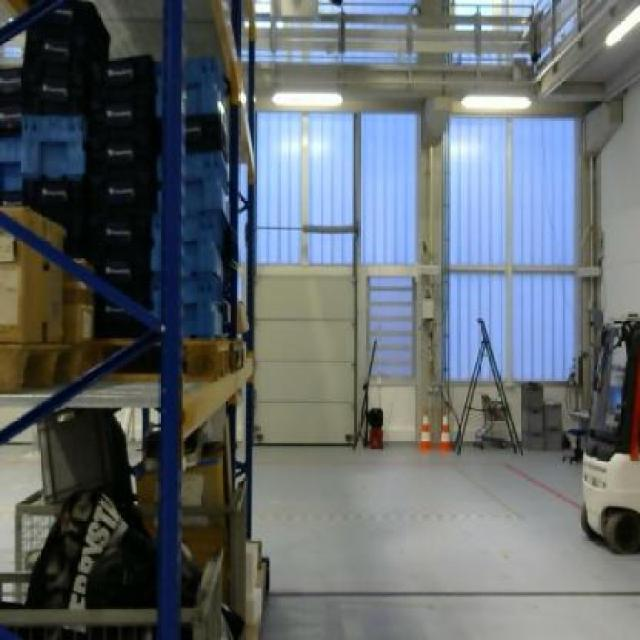box: (1, 204, 64, 341), (60, 256, 92, 342)
